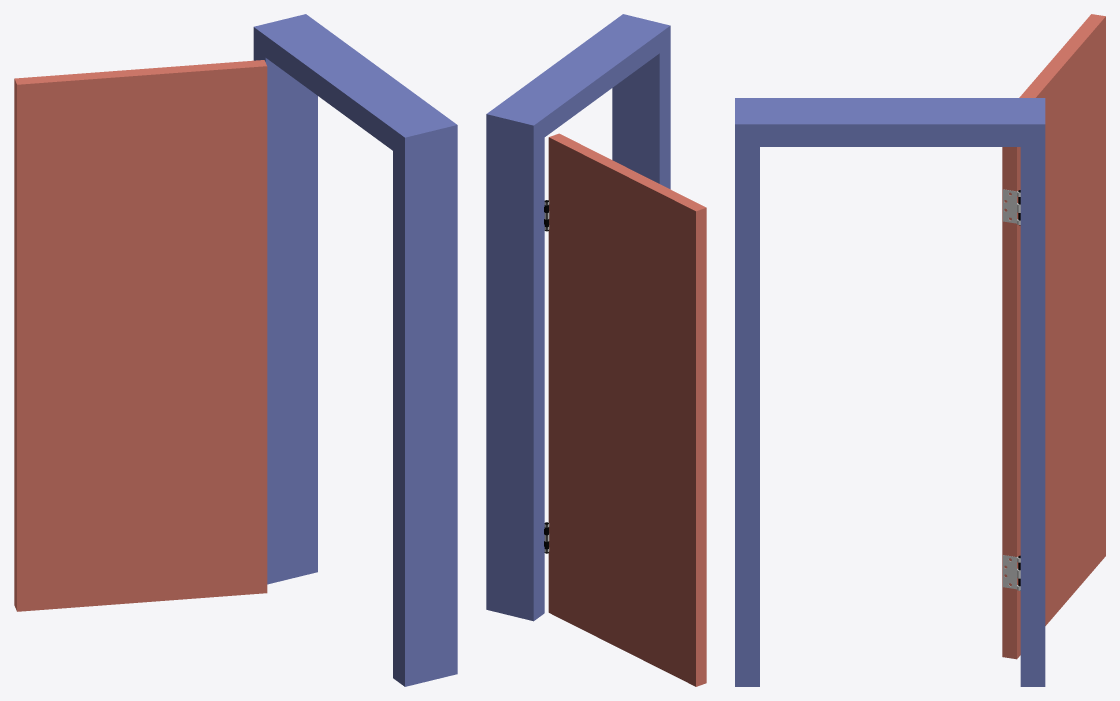
Rendered from porte_no_lock_clean.gltf.
The picture shows the model from 3 angles, left to right: view 1: azimuth 30°, elevation 25°; view 2: azimuth 150°, elevation 25°; view 3: azimuth 270°, elevation 25°; orthographic projection. The views are drawn at different scales.
Parts seen in each view (by area): view 1: Body1.016, Body1.015; view 2: Body1.016, Body1.015; view 3: Body1.016, Body1.015.
Boxes of the visible parts, x1,y1,x2,y2 form: Body1.016: (14, 60, 267, 611); Body1.015: (253, 14, 457, 686); Body1.016: (548, 133, 706, 686); Body1.015: (486, 14, 670, 621); Body1.016: (1002, 14, 1105, 659); Body1.015: (735, 98, 1045, 686).
Bounding box in the file's own units: 1.02 × 2 × 1.2.
